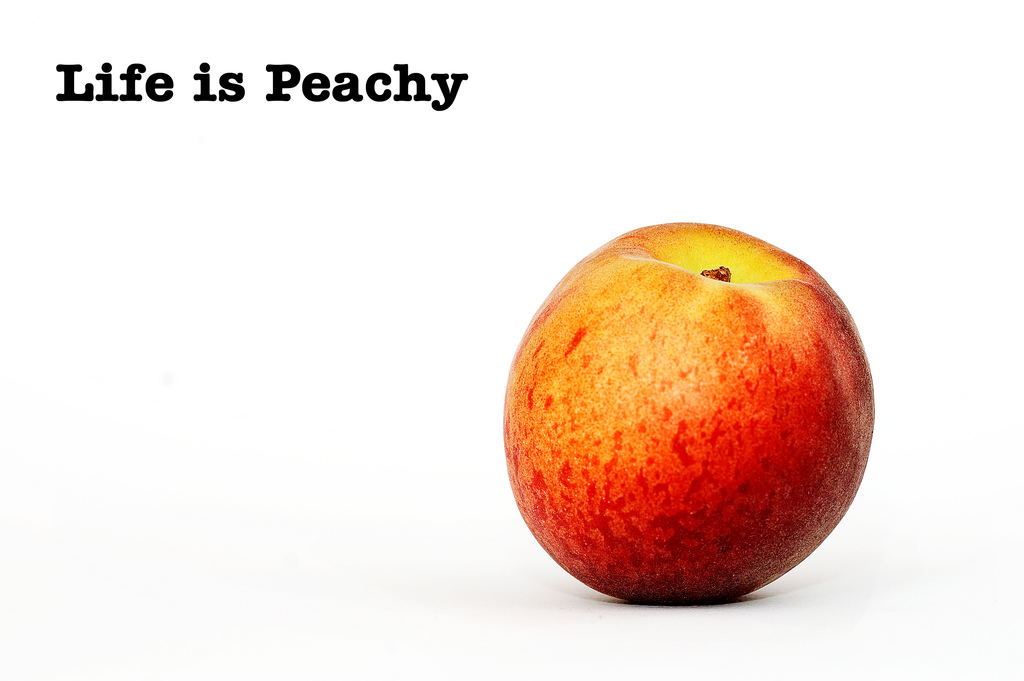Apple: (504, 209, 865, 614)
